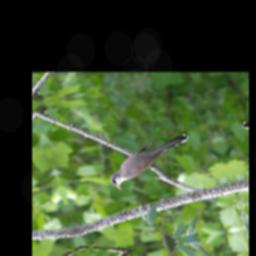Cuckoo: (99, 132, 203, 193)
